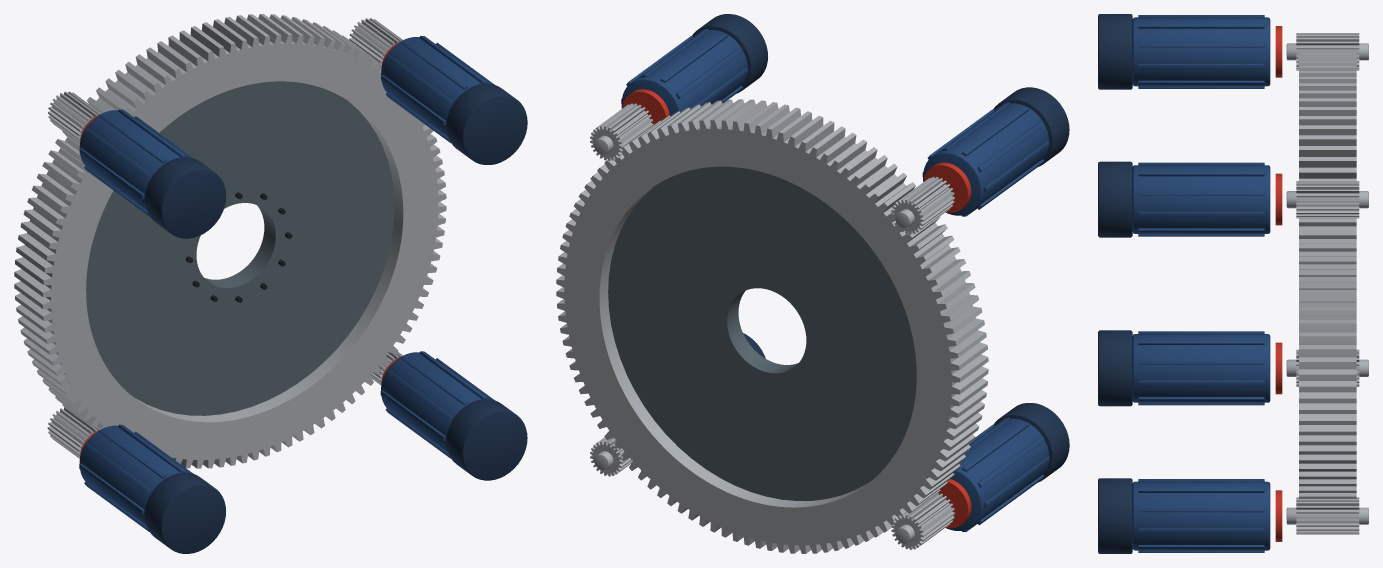
File: podtrain.glb
3 renders of one model, left to right at view 1: azimuth 30°, elevation 25°; view 2: azimuth 150°, elevation 25°; view 3: azimuth 270°, elevation 25°, orthographic.
Visible parts, largest first — view 1: podbull, podmotor3, podmotor2, podmotor1, podmotor0, podpin1, podpin2, podpin0; view 2: podbull, podmotor1, podmotor2, podmotor0, podpin1, podpin2, podpin0, podpin3; view 3: podbull, podmotor0, podmotor2, podmotor1, podmotor3, podpin0, podpin3, podpin1, podpin2.
Part boxes in pixels (x1=…): podbull: x1=14, y1=14, x2=446, y2=468; podmotor3: x1=380, y1=351, x2=527, y2=480; podmotor2: x1=79, y1=424, x2=225, y2=553; podmotor1: x1=79, y1=109, x2=226, y2=238; podmotor0: x1=381, y1=36, x2=527, y2=164; podpin1: x1=48, y1=91, x2=101, y2=143; podpin2: x1=47, y1=407, x2=100, y2=458; podpin0: x1=349, y1=18, x2=402, y2=69; podbull: x1=556, y1=99, x2=988, y2=553; podmotor1: x1=922, y1=87, x2=1069, y2=216; podmotor2: x1=938, y1=403, x2=1069, y2=531; podmotor0: x1=621, y1=14, x2=767, y2=124; podpin1: x1=891, y1=177, x2=954, y2=234; podpin2: x1=891, y1=492, x2=954, y2=549; podpin0: x1=590, y1=103, x2=653, y2=160; podpin3: x1=590, y1=437, x2=632, y2=476; podbull: x1=1299, y1=50, x2=1356, y2=498; podmotor0: x1=1098, y1=161, x2=1282, y2=237; podmotor2: x1=1098, y1=330, x2=1282, y2=406; podmotor1: x1=1098, y1=14, x2=1282, y2=89; podmotor3: x1=1098, y1=478, x2=1282, y2=553; podpin0: x1=1286, y1=181, x2=1368, y2=218; podpin3: x1=1286, y1=497, x2=1368, y2=534; podpin1: x1=1286, y1=33, x2=1368, y2=70; podpin2: x1=1286, y1=349, x2=1368, y2=386.
Size of the model in its own units: 8.14 by 8.15 by 4.71.
